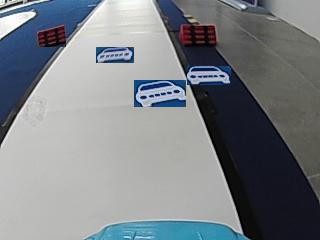bomb: (178, 23, 217, 44)
